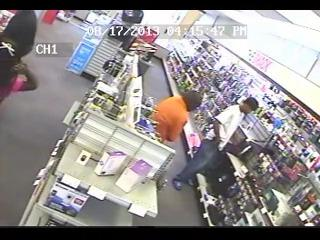Normal: (0, 27, 31, 142)
shoplifting: (153, 76, 206, 176), (214, 97, 263, 165)
